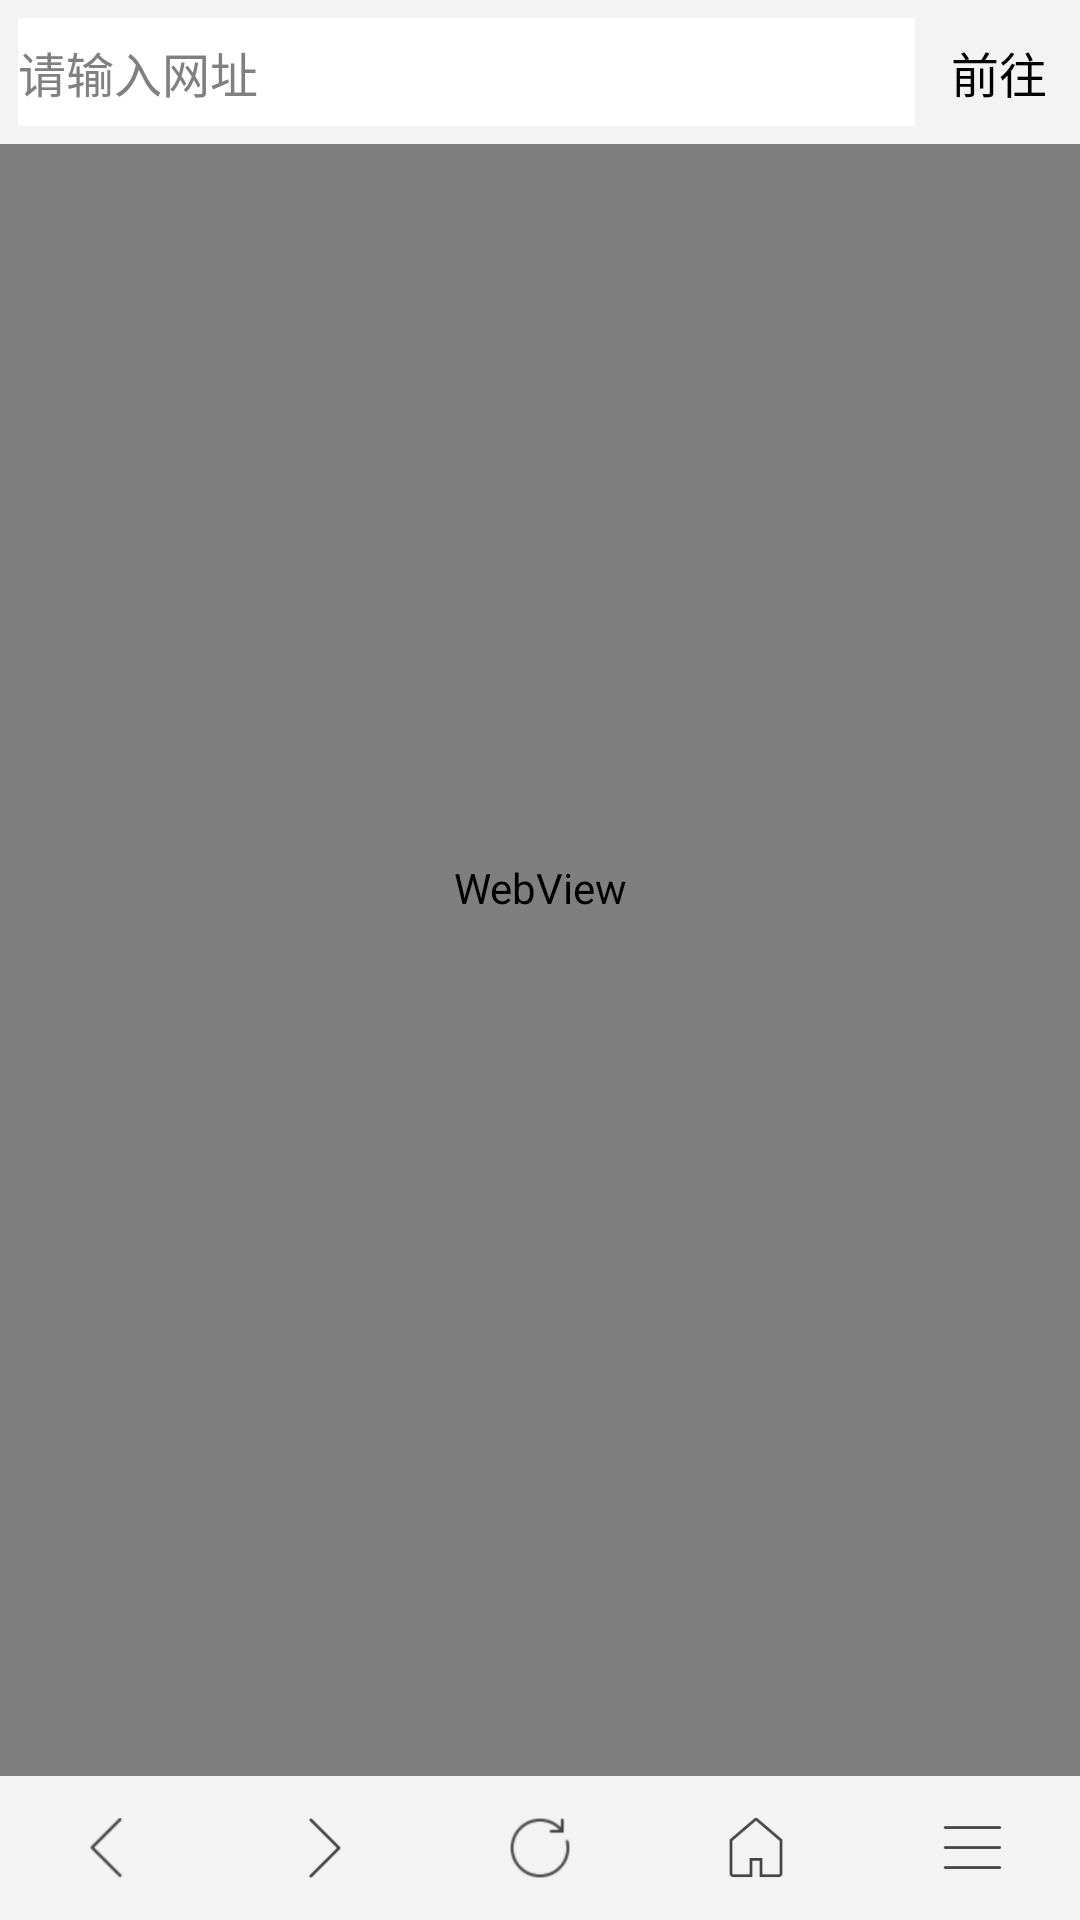

Named icons in this screenshot (1080x1920) and their bounding boxes, (x1, y1, x2, y2):
back: (90, 1818, 122, 1878)
forward: (309, 1818, 341, 1878)
home: (729, 1818, 783, 1877)
menu: (944, 1826, 1001, 1869)
reload: (510, 1818, 570, 1878)
